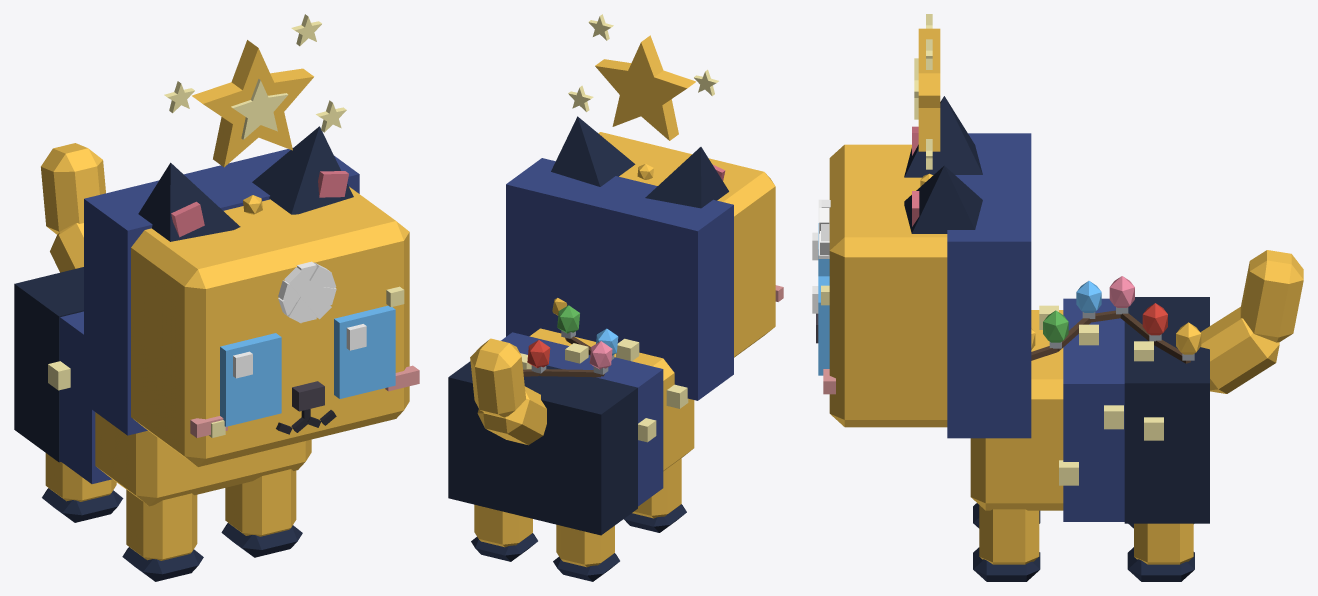
Rendered from CatCafe_Cat_StarTopper.glb.
The picture shows the model from 3 angles, left to right: view 1: azimuth 30°, elevation 25°; view 2: azimuth 150°, elevation 25°; view 3: azimuth 270°, elevation 25°; orthographic projection. The views are drawn at different scales.
Visible parts, largest first — view 1: CatCafe_Cat_StarTopper_Head, CatCafe_Cat_StarTopper_Body, CatCafe_Cat_StarTopper_Star_Glow, CatCafe_Cat_StarTopper_LegF2, CatCafe_Cat_StarTopper_Tail, CatCafe_Cat_StarTopper_LegF1, CatCafe_Cat_StarTopper_Eye1, CatCafe_Cat_StarTopper_Eye2, CatCafe_Cat_StarTopper_EarL, CatCafe_Cat_StarTopper_EarR, CatCafe_Cat_StarTopper_LegB2; view 2: CatCafe_Cat_StarTopper_Head, CatCafe_Cat_StarTopper_Body, CatCafe_Cat_StarTopper_Star_Glow, CatCafe_Cat_StarTopper_Tail, CatCafe_Cat_StarTopper_EarL, CatCafe_Cat_StarTopper_LegB2, CatCafe_Cat_StarTopper_EarR, CatCafe_Cat_StarTopper_LegB1, CatCafe_Cat_StarTopper_LegF2, CatCafe_Cat_StarTopper_Bulbs_Glow, CatCafe_Cat_StarTopper_Prop2; view 3: CatCafe_Cat_StarTopper_Head, CatCafe_Cat_StarTopper_Body, CatCafe_Cat_StarTopper_Tail, CatCafe_Cat_StarTopper_LegF1, CatCafe_Cat_StarTopper_EarL, CatCafe_Cat_StarTopper_LegB1, CatCafe_Cat_StarTopper_Bulbs_Glow, CatCafe_Cat_StarTopper_Star_Glow, CatCafe_Cat_StarTopper_EarR, CatCafe_Cat_StarTopper_Prop2, CatCafe_Cat_StarTopper_Eye1.
Boxes of the visible parts, x1,y1,x2,y2 form: CatCafe_Cat_StarTopper_Head: (84,149,419,466); CatCafe_Cat_StarTopper_Body: (14,267,311,506); CatCafe_Cat_StarTopper_Star_Glow: (164,14,346,167); CatCafe_Cat_StarTopper_LegF2: (122,489,203,581); CatCafe_Cat_StarTopper_Tail: (41,143,105,272); CatCafe_Cat_StarTopper_LegF1: (221,469,302,557); CatCafe_Cat_StarTopper_Eye1: (334,305,395,398); CatCafe_Cat_StarTopper_Eye2: (220,333,281,426); CatCafe_Cat_StarTopper_EarL: (252,126,353,214); CatCafe_Cat_StarTopper_EarR: (138,162,240,241); CatCafe_Cat_StarTopper_LegB2: (42,453,123,522); CatCafe_Cat_StarTopper_Head: (506,132,783,400); CatCafe_Cat_StarTopper_Body: (448,328,694,535); CatCafe_Cat_StarTopper_Star_Glow: (568,14,718,140); CatCafe_Cat_StarTopper_Tail: (470,338,546,445); CatCafe_Cat_StarTopper_EarL: (551,116,635,186); CatCafe_Cat_StarTopper_LegB2: (553,524,619,581); CatCafe_Cat_StarTopper_EarR: (645,147,728,208); CatCafe_Cat_StarTopper_LegB1: (471,504,537,561); CatCafe_Cat_StarTopper_LegF2: (624,458,686,532); CatCafe_Cat_StarTopper_Bulbs_Glow: (527,298,618,369); CatCafe_Cat_StarTopper_Prop2: (523,330,614,377); CatCafe_Cat_StarTopper_Head: (816,133,1031,438); CatCafe_Cat_StarTopper_Body: (970,297,1209,523); CatCafe_Cat_StarTopper_Tail: (1200,250,1303,393); CatCafe_Cat_StarTopper_LegF1: (973,505,1040,581); CatCafe_Cat_StarTopper_EarL: (904,165,982,233); CatCafe_Cat_StarTopper_LegB1: (1127,523,1194,581); CatCafe_Cat_StarTopper_Bulbs_Glow: (1031,276,1201,354); CatCafe_Cat_StarTopper_Star_Glow: (914,14,940,169); CatCafe_Cat_StarTopper_EarR: (904,96,982,177); CatCafe_Cat_StarTopper_Prop2: (1031,307,1194,363); CatCafe_Cat_StarTopper_Eye1: (812,276,829,375).
Bounding box in the file's own units: 1.03 × 2.37 × 1.97.
Materials: 1 (1 with a texture image).
